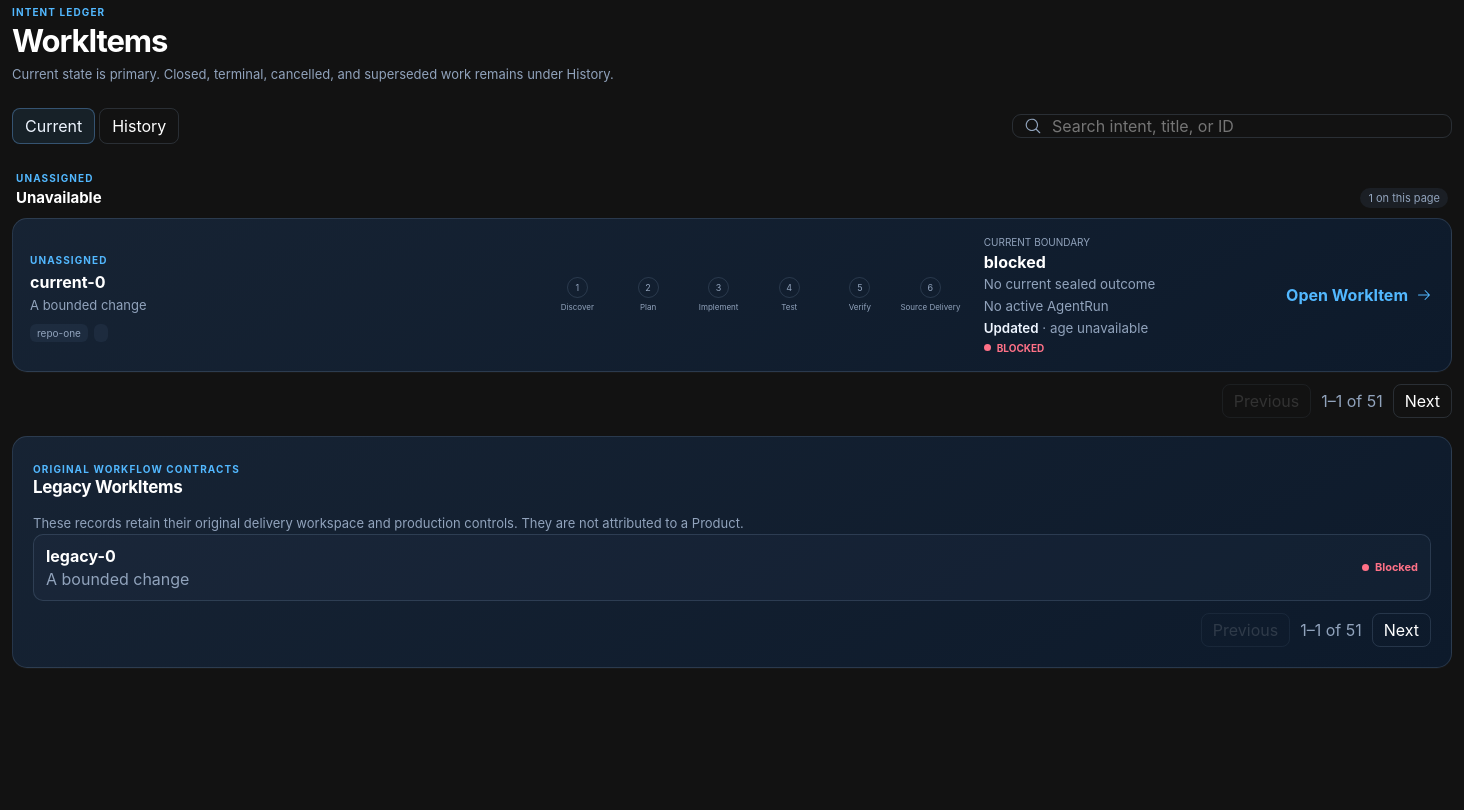
Scenario: Lamina list results › pages legacy work independently and resets both lists when the lifecycle changes
Step 1. Click the 2nd button "Next" → (1401, 630), box left=1372, top=613, right=1431, bottom=647
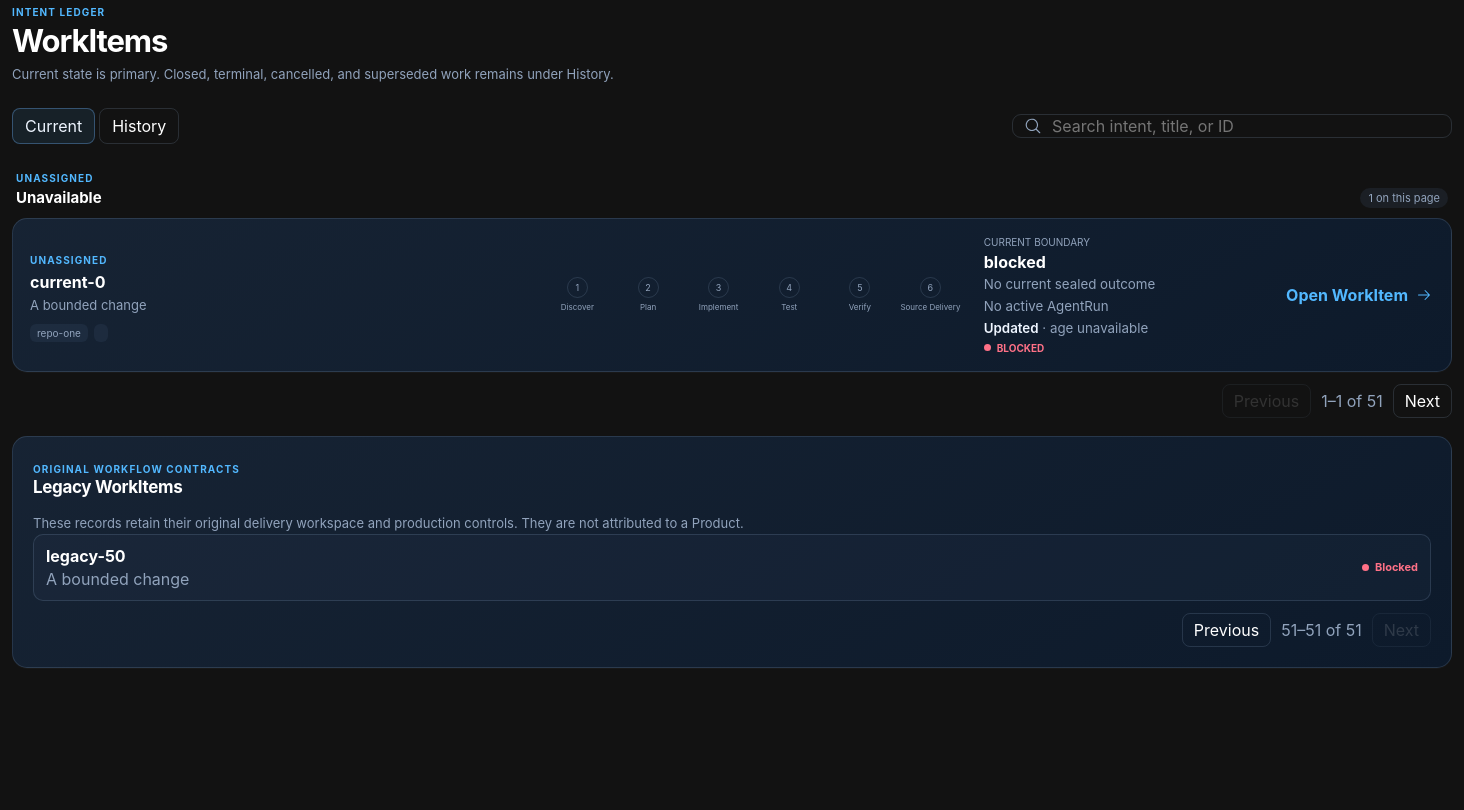
expect the heading "current-0" is shown: met, box left=30, top=272, right=106, bottom=292
expect the text "legacy-50" is shown: met, box left=46, top=546, right=126, bottom=566
Step 2. Click the button "History" → (139, 126), box left=99, top=108, right=179, bottom=144
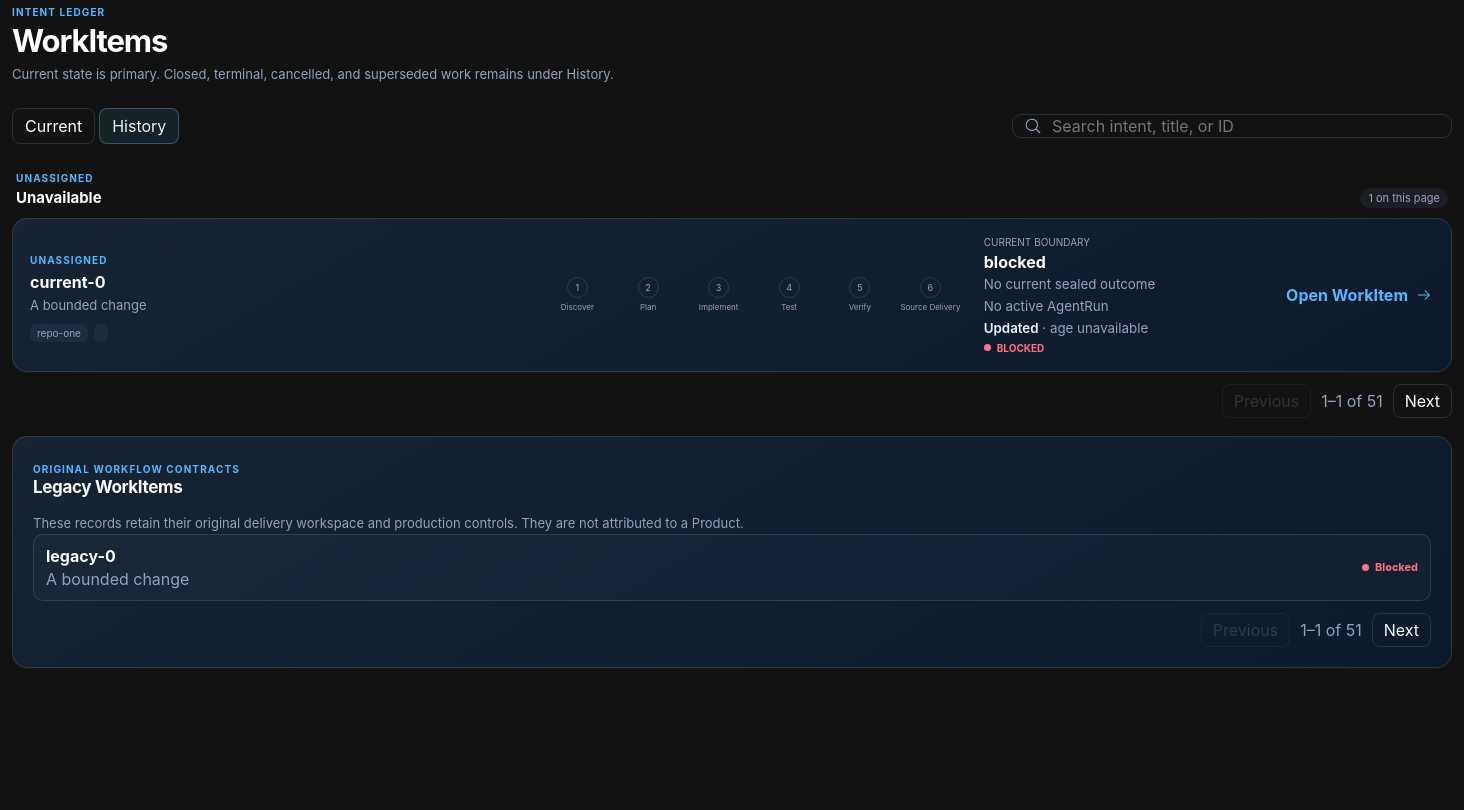
expect the text "legacy-0" is shown: met, box left=46, top=546, right=116, bottom=566
